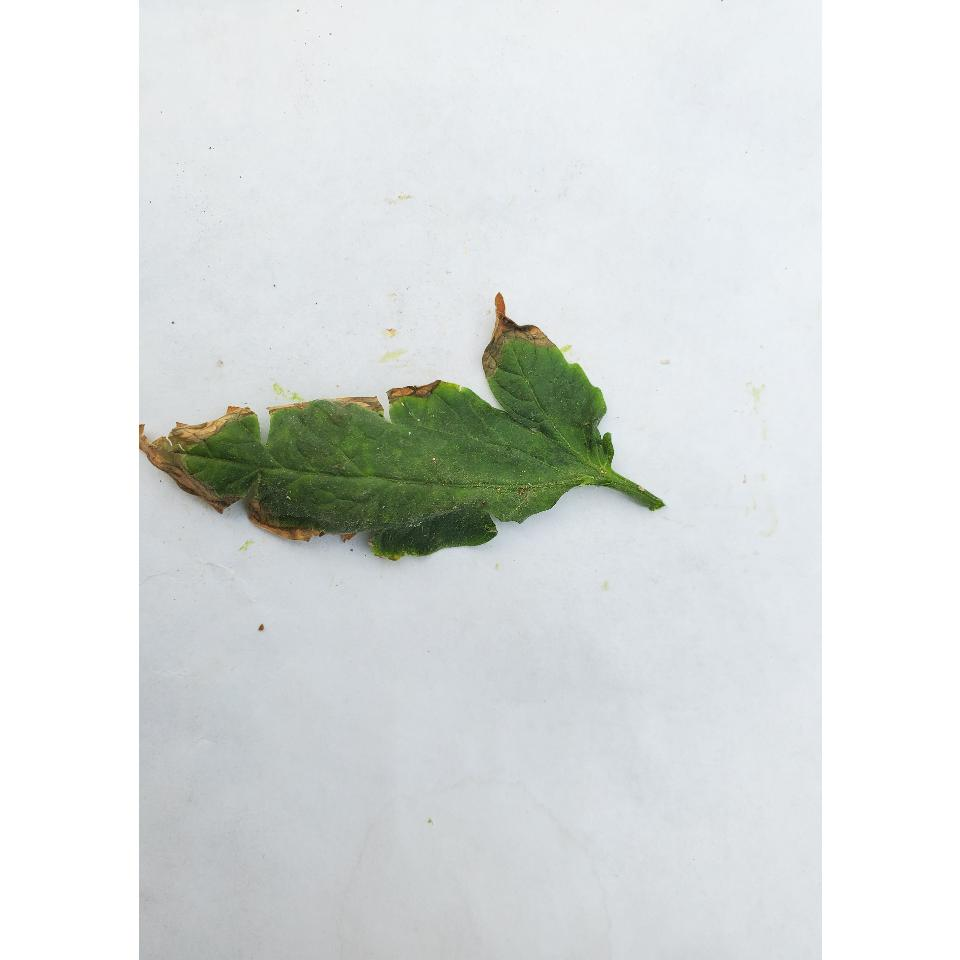tomato_bacterial_blight: (138, 342, 680, 550)
